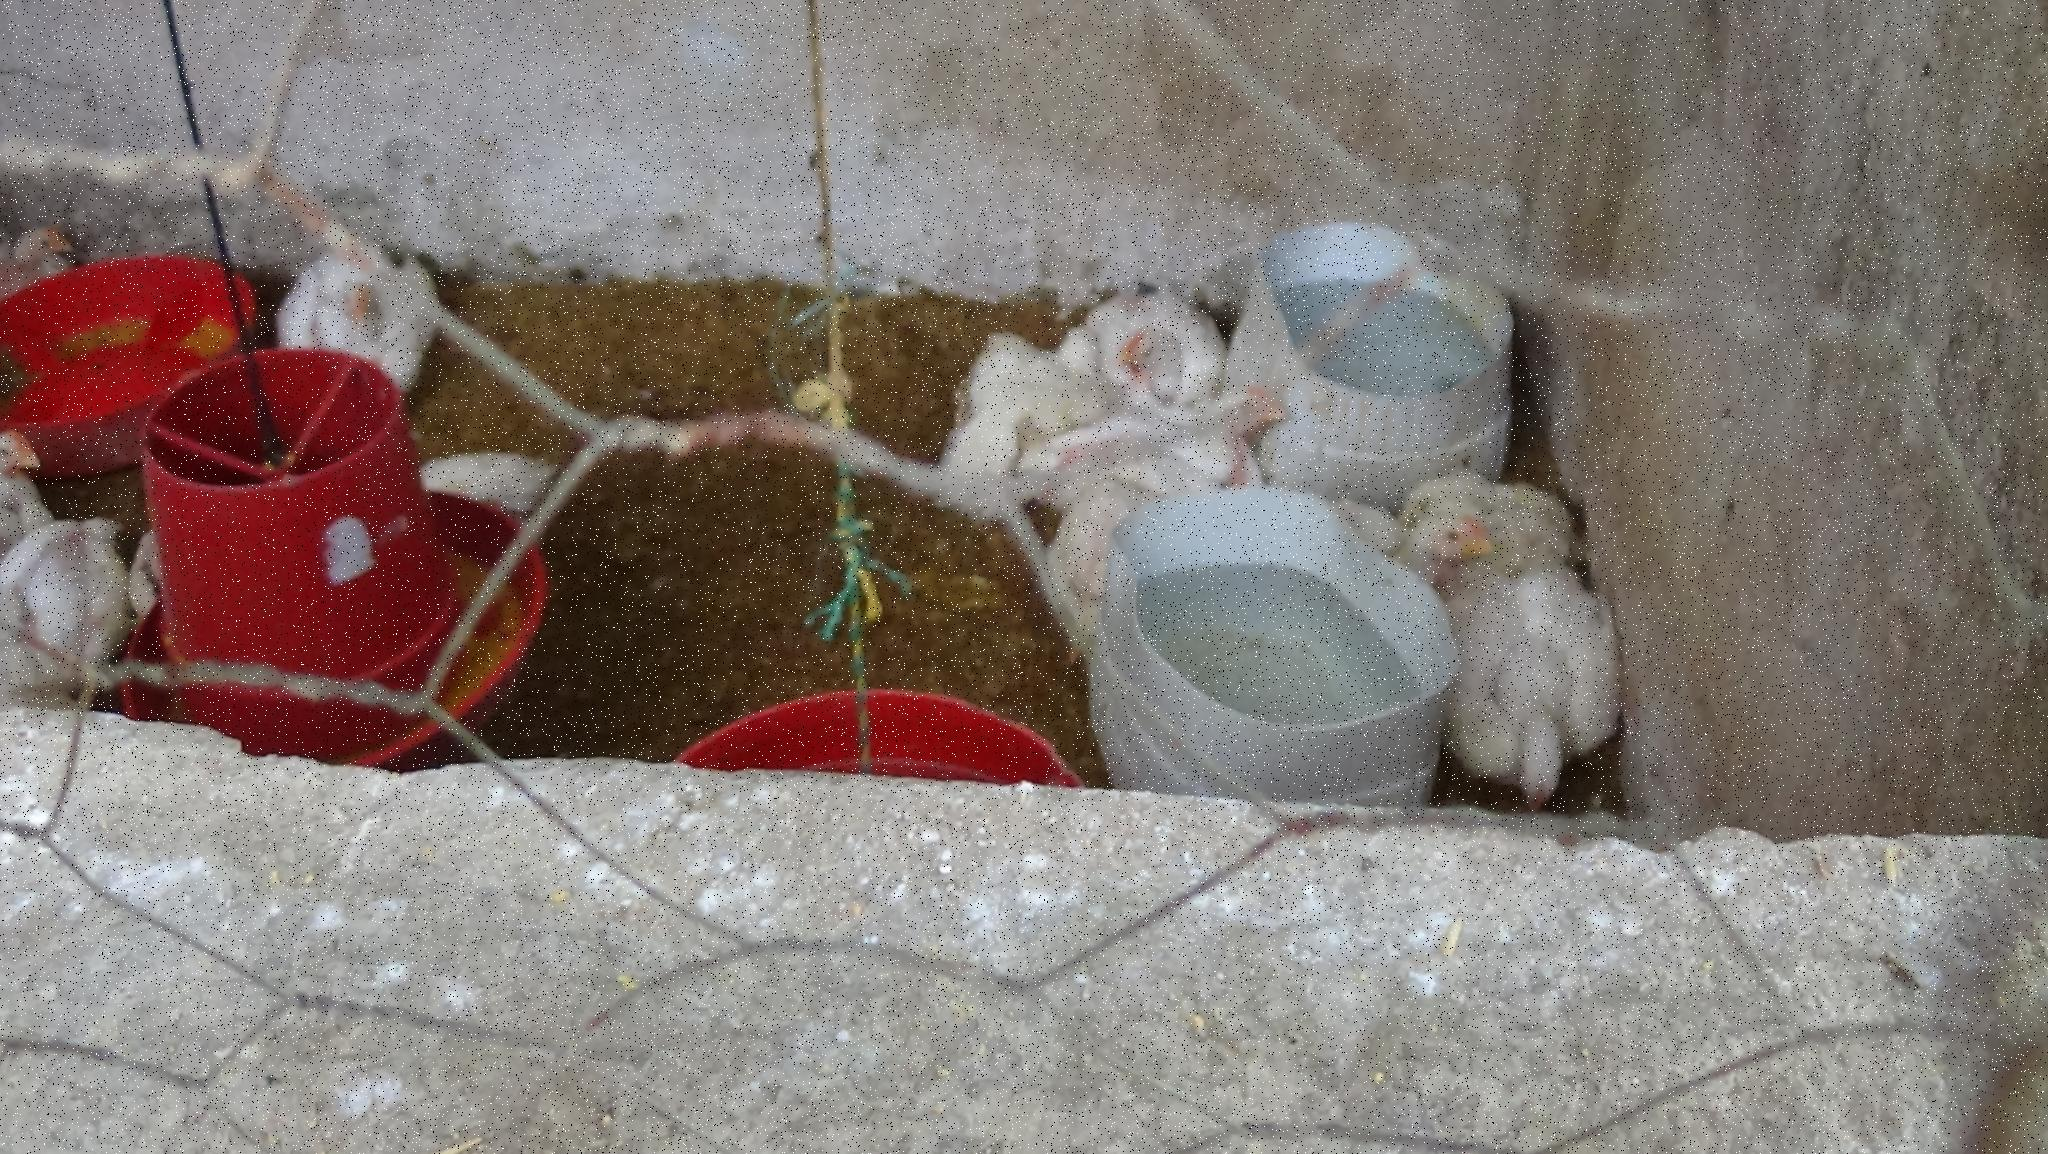Pollos: (1439, 597, 1639, 816), (1, 516, 160, 719), (276, 227, 444, 405), (1189, 379, 1321, 508), (1, 167, 108, 297), (1082, 297, 1221, 395), (1388, 484, 1499, 598), (1, 418, 79, 511)
